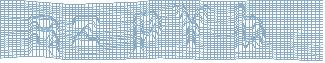B: (25, 13, 62, 58)
Y: (171, 3, 211, 51)
b: (232, 1, 267, 53)
p: (131, 11, 163, 53)
z: (69, 14, 104, 48)
